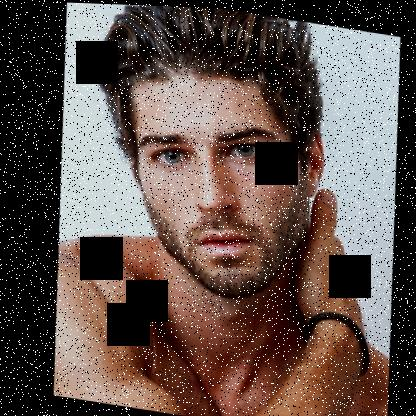Male: (101, 58, 342, 308)
